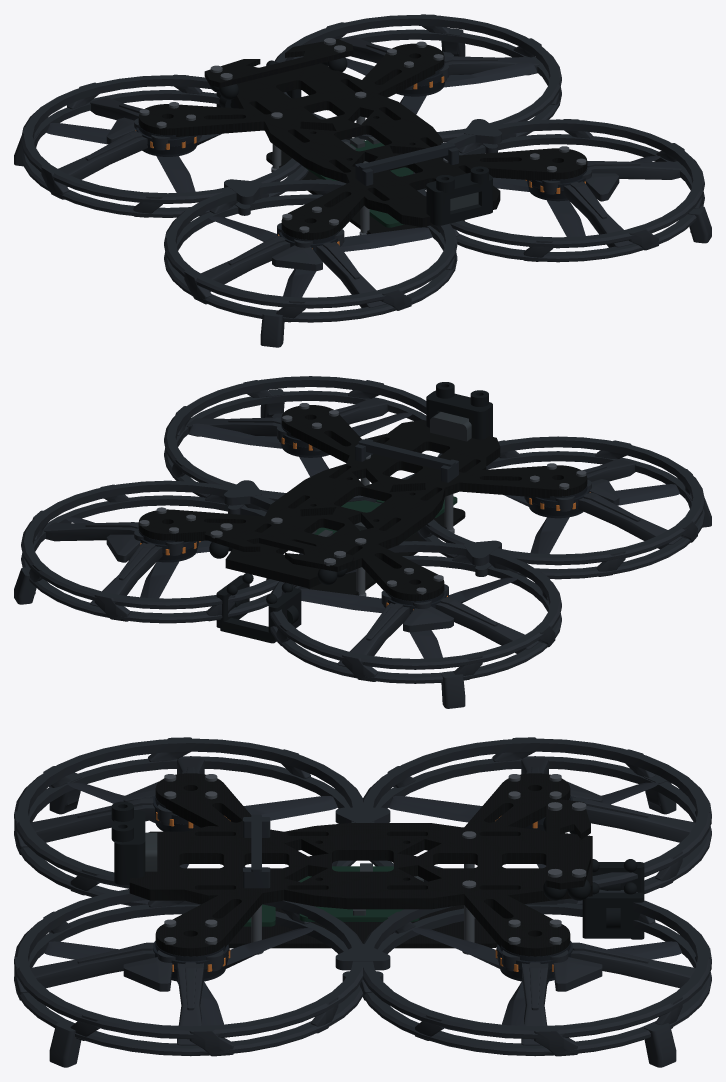
File: cinelog35_v3.glb
The picture shows the model from 3 angles, top to bottom: view 1: azimuth 30°, elevation 25°; view 2: azimuth 150°, elevation 25°; view 3: azimuth 270°, elevation 25°; orthographic projection. The views are drawn at different scales.
Visible parts, largest first — view 1: PropGuards, CarbonFrame, TPU, Prop_RL, Motors, Hardware, Prop_FL, Prop_FR, BatteryRails, Prop_RR, PCB, Components; view 2: PropGuards, CarbonFrame, TPU, Motors, Prop_FL, Hardware, Prop_RR, Prop_RL, BatteryRails, Prop_FR, Components, PCB; view 3: PropGuards, CarbonFrame, TPU, Hardware, Prop_FR, Prop_RR, Motors, Prop_FL, Prop_RL, BatteryRails, PCB, Components.
Part boxes in pixels (x1,y1,x2,y2): PropGuards: [14, 14, 711, 347]; CarbonFrame: [138, 39, 587, 245]; TPU: [209, 57, 492, 225]; Prop_RL: [208, 216, 432, 297]; Motors: [136, 62, 588, 252]; Hardware: [139, 38, 586, 234]; Prop_FL: [46, 123, 221, 192]; Prop_FR: [346, 58, 536, 114]; BatteryRails: [355, 142, 458, 185]; Prop_RR: [493, 155, 660, 236]; PCB: [303, 140, 413, 227]; Components: [344, 136, 478, 210]; PropGuards: [14, 376, 711, 708]; CarbonFrame: [138, 405, 587, 601]; TPU: [209, 382, 492, 643]; Motors: [137, 423, 589, 613]; Prop_FL: [300, 577, 517, 658]; Hardware: [139, 403, 586, 596]; Prop_RR: [189, 412, 412, 476]; Prop_RL: [504, 484, 679, 553]; BatteryRails: [355, 438, 458, 482]; Prop_FR: [65, 517, 211, 598]; Components: [312, 411, 471, 536]; PCB: [314, 496, 457, 540]; PropGuards: [14, 737, 711, 1067]; CarbonFrame: [129, 773, 592, 956]; TPU: [111, 801, 644, 939]; Hardware: [164, 774, 586, 954]; Prop_FR: [412, 928, 681, 1025]; Prop_RR: [44, 928, 313, 1025]; Motors: [153, 795, 572, 981]; Prop_FL: [388, 782, 658, 868]; Prop_RL: [67, 782, 337, 868]; BatteryRails: [243, 814, 270, 888]; PCB: [243, 866, 419, 926]; Components: [145, 832, 423, 915].
Size of the model in its own units: 0.2035 by 0.0382 by 0.2035.
Materials: 10 (1 with a texture image).
